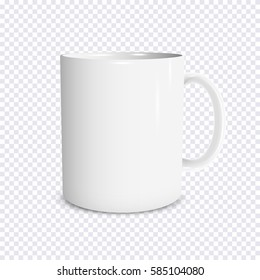cup: (58, 49, 221, 213)
